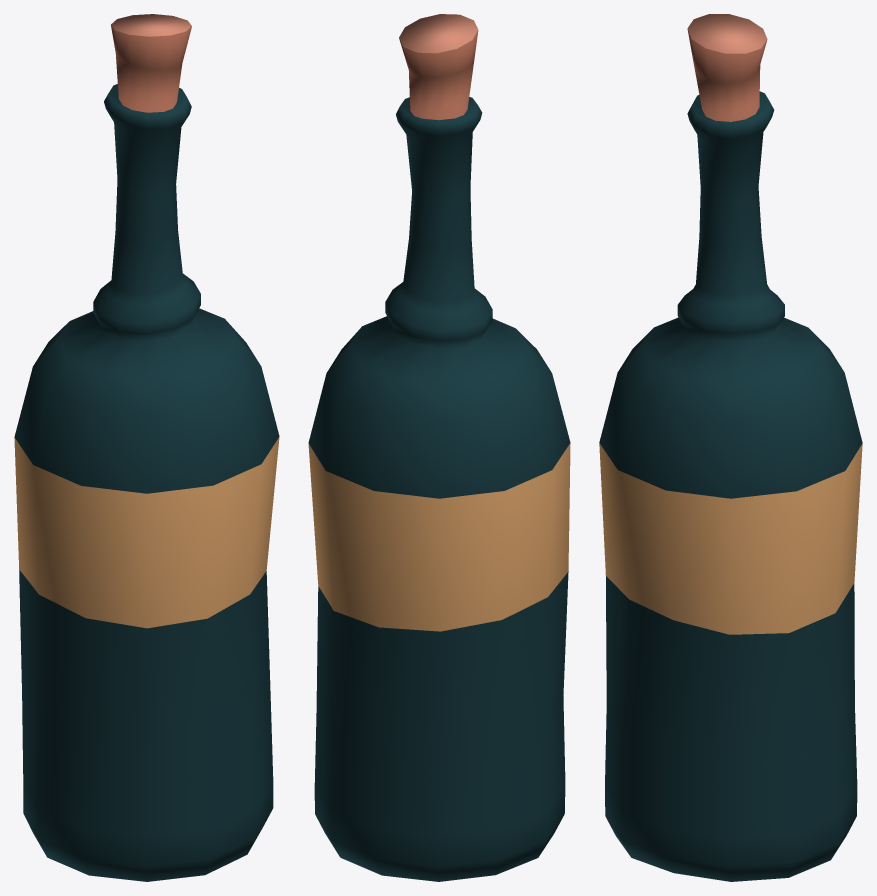
The model's file is bottle01.fbx.
3 views of the same model, side by side, from view 1: azimuth 30°, elevation 25°; view 2: azimuth 150°, elevation 25°; view 3: azimuth 270°, elevation 25° (orthographic).
Parts seen in each view (by area): view 1: bottle01; view 2: bottle01; view 3: bottle01.
Boxes of the visible parts, x1=… form: bottle01: x1=14, y1=14, x2=279, y2=881; bottle01: x1=308, y1=14, x2=570, y2=881; bottle01: x1=599, y1=14, x2=862, y2=881.
Size of the model in its own units: 24.68 by 83.71 by 24.69.
